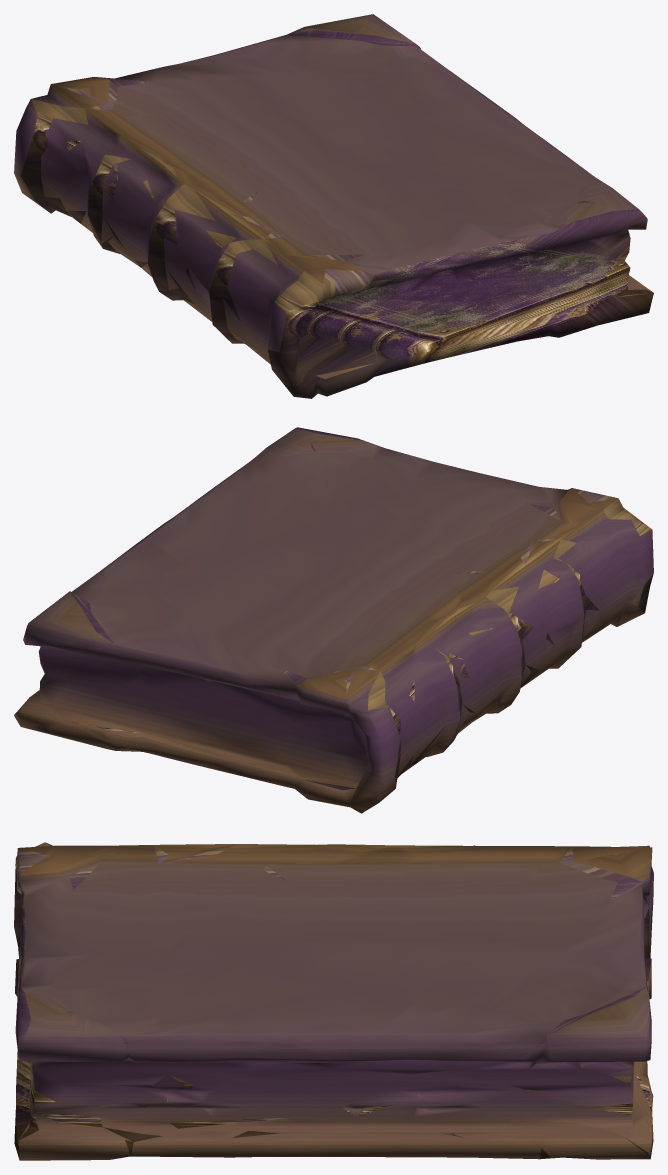
Rendered from asset_purple-book.glb.
3 views of the same model, one above another, from view 1: azimuth 30°, elevation 25°; view 2: azimuth 150°, elevation 25°; view 3: azimuth 270°, elevation 25° (orthographic). The views are drawn at different scales.
Parts seen in each view (by area): view 1: geometry_0; view 2: geometry_0; view 3: geometry_0.
Part boxes in pixels (x1,y1,x2,y2): geometry_0: (14,14,653,398); geometry_0: (14,427,653,813); geometry_0: (14,842,653,1160).
Size of the model in its own units: 0.827 by 0.25 by 1.05.
Materials: 1 (1 with a texture image).
